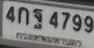letters: (33, 9, 43, 29), (18, 7, 29, 25), (49, 11, 59, 29), (72, 14, 82, 31), (84, 16, 94, 33), (6, 6, 16, 22), (61, 12, 70, 29)
province: (16, 32, 82, 47)
